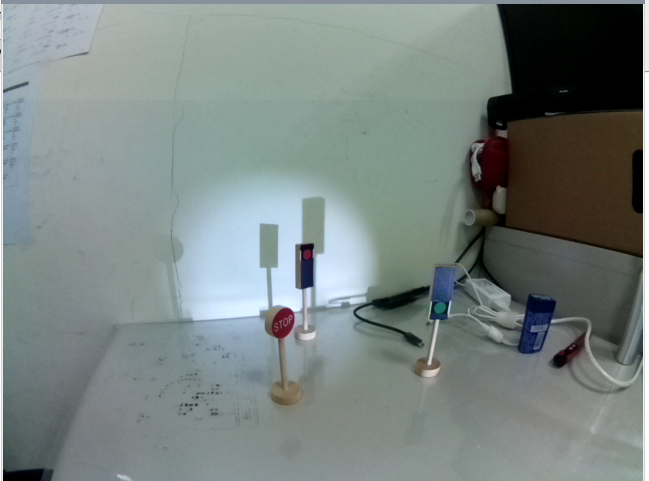Green: (427, 262, 457, 330)
Red: (293, 239, 316, 296)
Stop: (263, 305, 296, 344)
